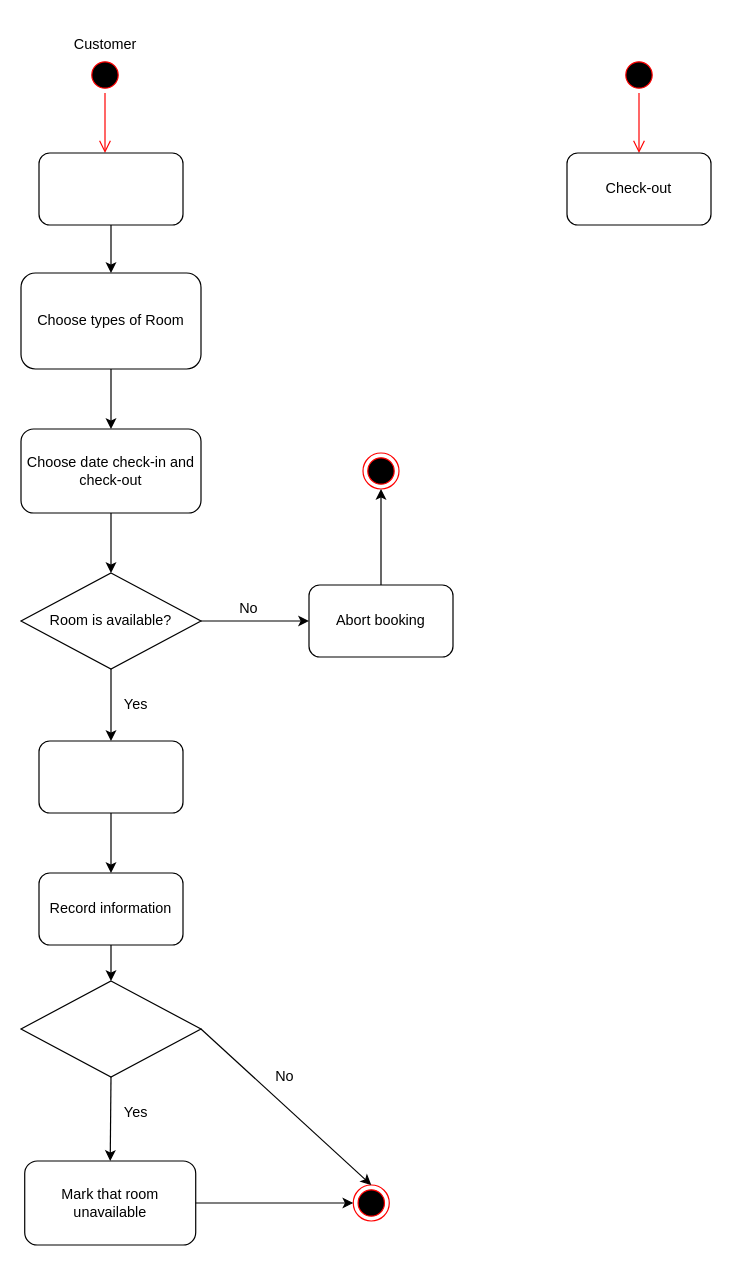
Image size: 732x1266. Some labels were removed from this diagram. Here are the shapes that lost their labels. From the top down, the box of each, then its label:
(38, 152, 183, 225): Booking
(38, 740, 183, 813): Insert civil ID
(20, 980, 201, 1077): Confirmation
